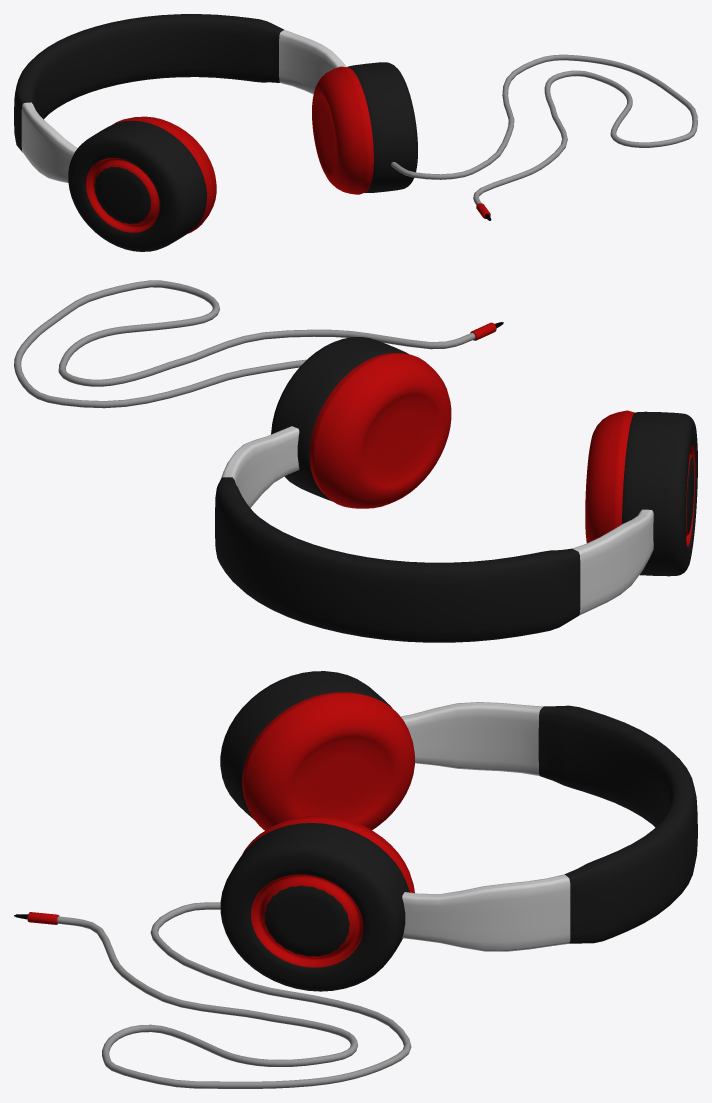
3 renders of one model, top to bottom at view 1: azimuth 30°, elevation 25°; view 2: azimuth 150°, elevation 25°; view 3: azimuth 270°, elevation 25°, orthographic. The views are drawn at different scales.
Size of the model in its own units: 107 by 21.26 by 88.86.
